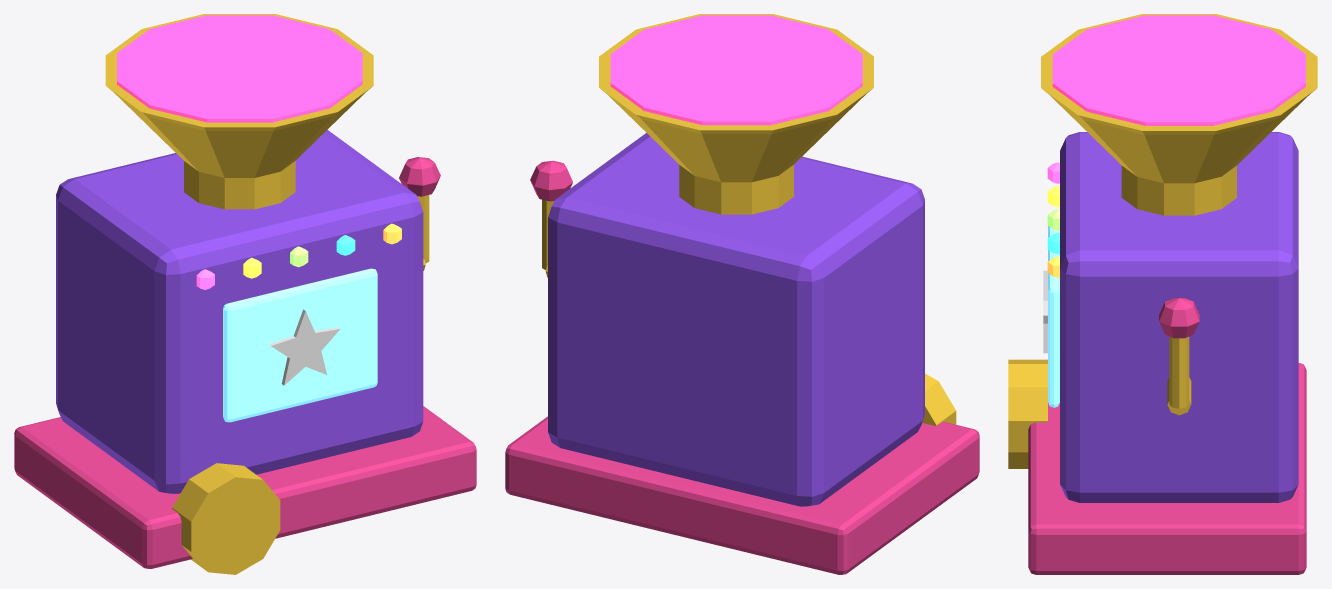
Rendered from resquish_machine.fbx.
The picture shows the model from 3 angles, left to right: view 1: azimuth 30°, elevation 25°; view 2: azimuth 150°, elevation 25°; view 3: azimuth 270°, elevation 25°; orthographic projection. The views are drawn at different scales.
Visible parts, largest first — view 1: Body, Base, FunnelGoo, Window, Funnel, Chute, Swirl, Knob; view 2: Body, Base, FunnelGoo, Funnel, Knob, Chute; view 3: Body, Base, FunnelGoo, Funnel, Chute, Window, Crank, Knob, Swirl.
Boxes of the visible parts, x1,y1,x2,y2 form: Body: (56,130,423,493); Base: (14,406,476,568); FunnelGoo: (117,15,362,122); Window: (223,268,377,422); Funnel: (105,14,373,209); Chute: (172,463,280,574); Swirl: (268,309,340,385); Knob: (399,157,440,196); Body: (548,133,924,506); Base: (505,416,979,574); FunnelGoo: (610,15,862,125); Funnel: (599,14,873,214); Knob: (530,160,572,201); Chute: (922,373,956,426); Body: (1060,132,1298,502); Base: (1028,363,1306,574); FunnelGoo: (1052,15,1305,125); Funnel: (1041,14,1317,215); Chute: (1008,359,1047,468); Window: (1048,226,1059,407); Crank: (1167,336,1191,415); Knob: (1159,298,1199,338); Swirl: (1043,270,1047,353).
Size of the model in its own units: 10.91 by 12.2 by 7.78.
